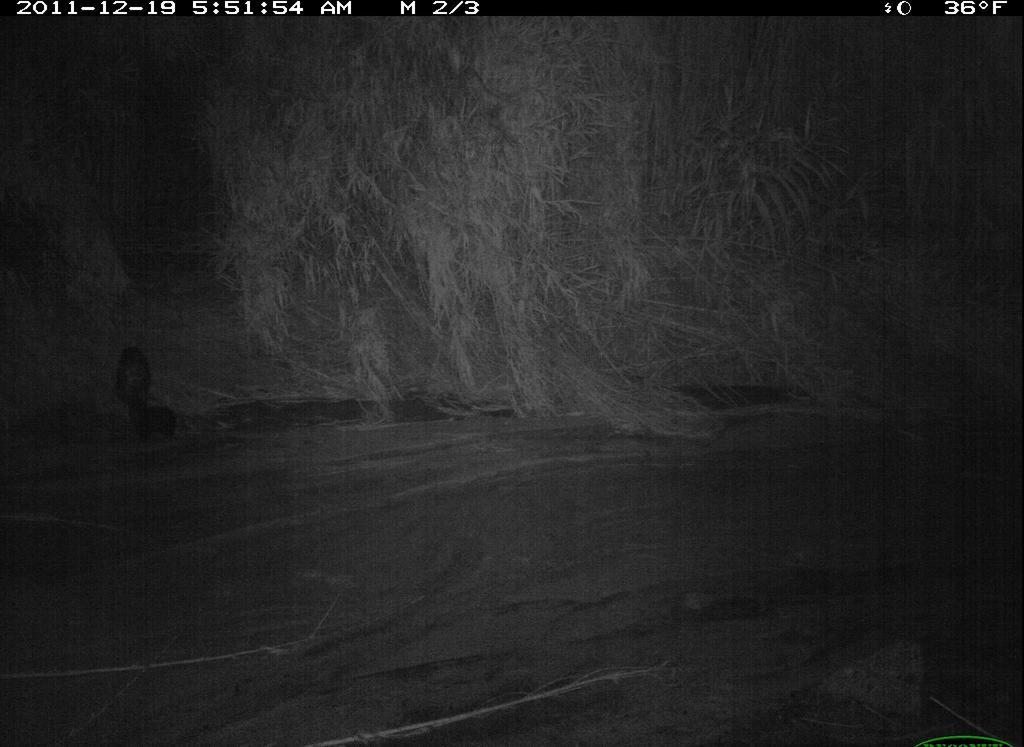skunk: (114, 340, 204, 452)
